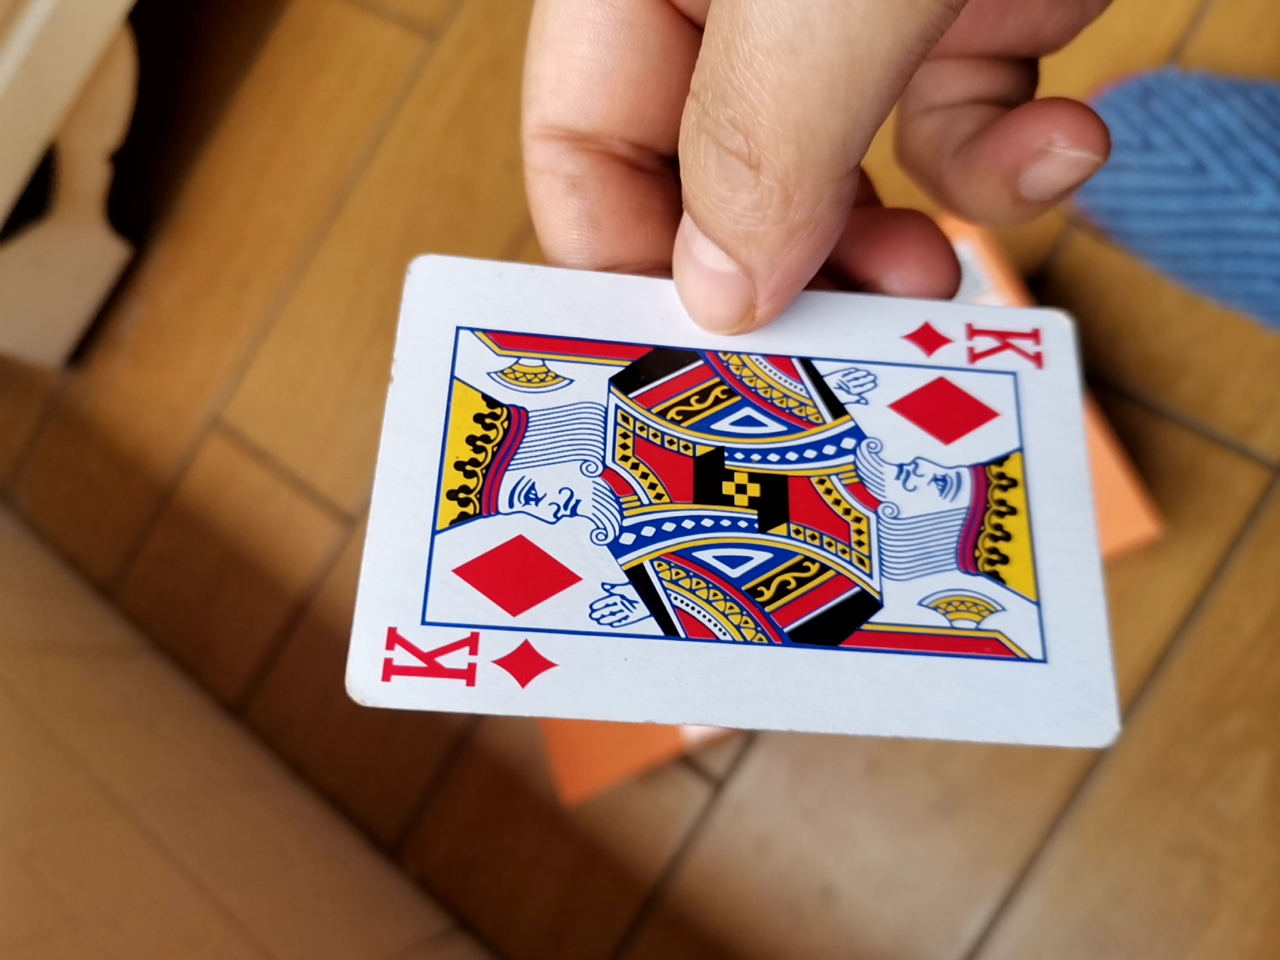fk k: (327, 251, 1108, 754)
